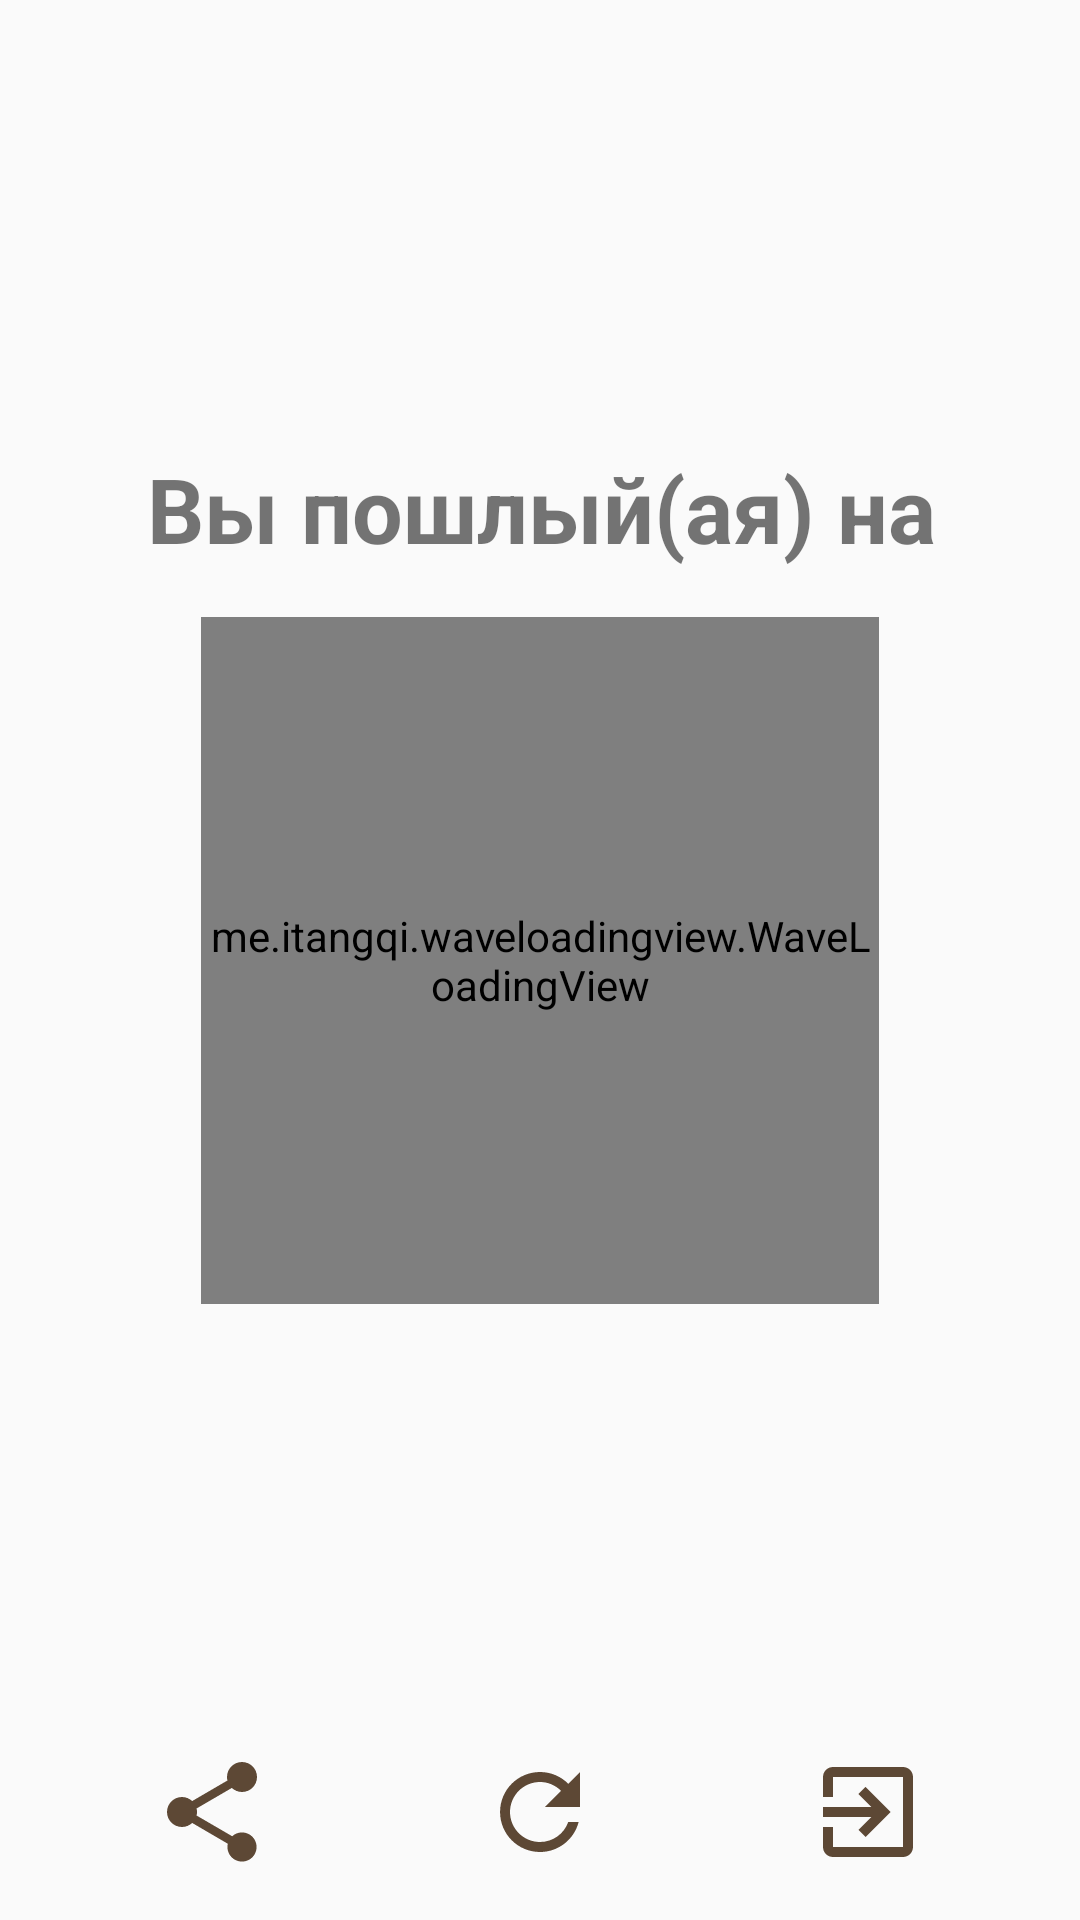

Named icons in this screenshot (1080 × 1920) and their centers, [x,y]:
exit: [868,1812]
refresh: [540,1812]
share: [212,1812]
